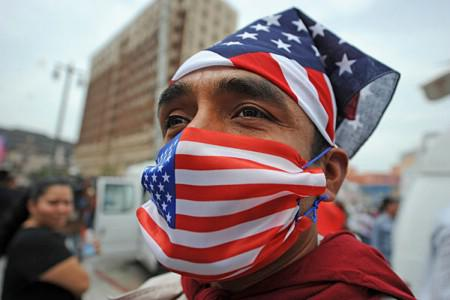NONE: (38, 192, 73, 227)
OK: (134, 77, 326, 276)
